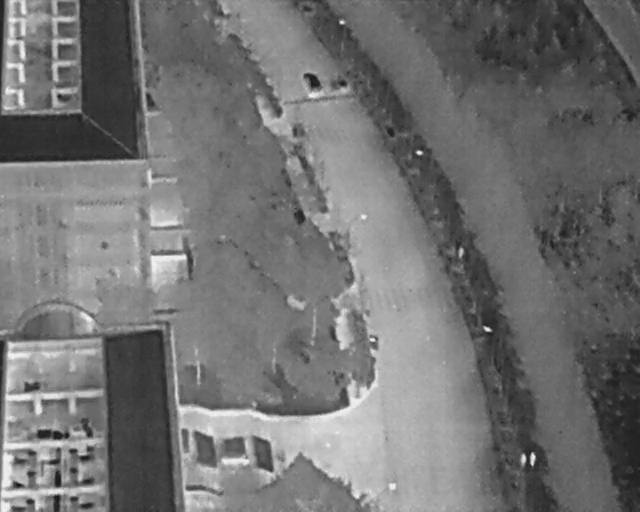Car: (301, 68, 323, 97)
Person: (530, 451, 537, 467), (520, 452, 527, 468), (458, 244, 464, 259)
